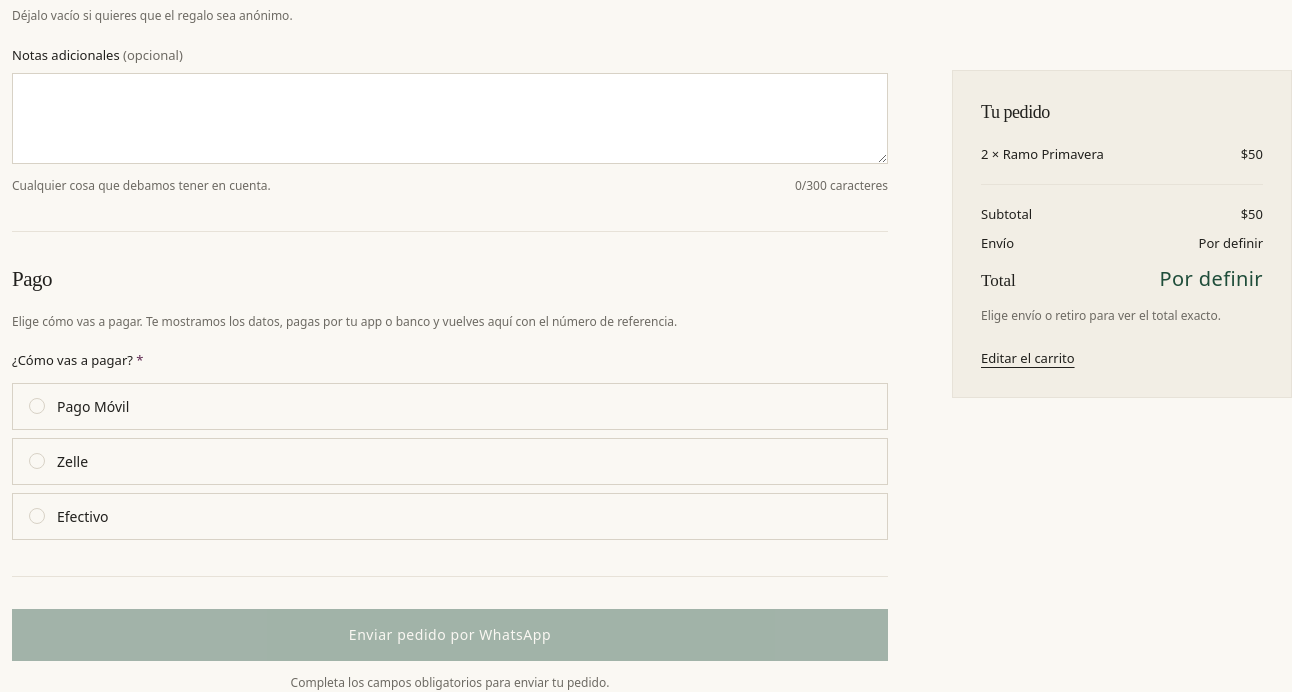
Test: the checkout island › shows the account details of the chosen rail and no other
(page scrolled)
Expected: the text "0412-0000001" is not shown
Expected: the text "Azahar Flowers LLC" is not shown
Click the radio button named "Pago Móvil" next to "Pago Móvil" at (37, 406), box [29,398,45,414]
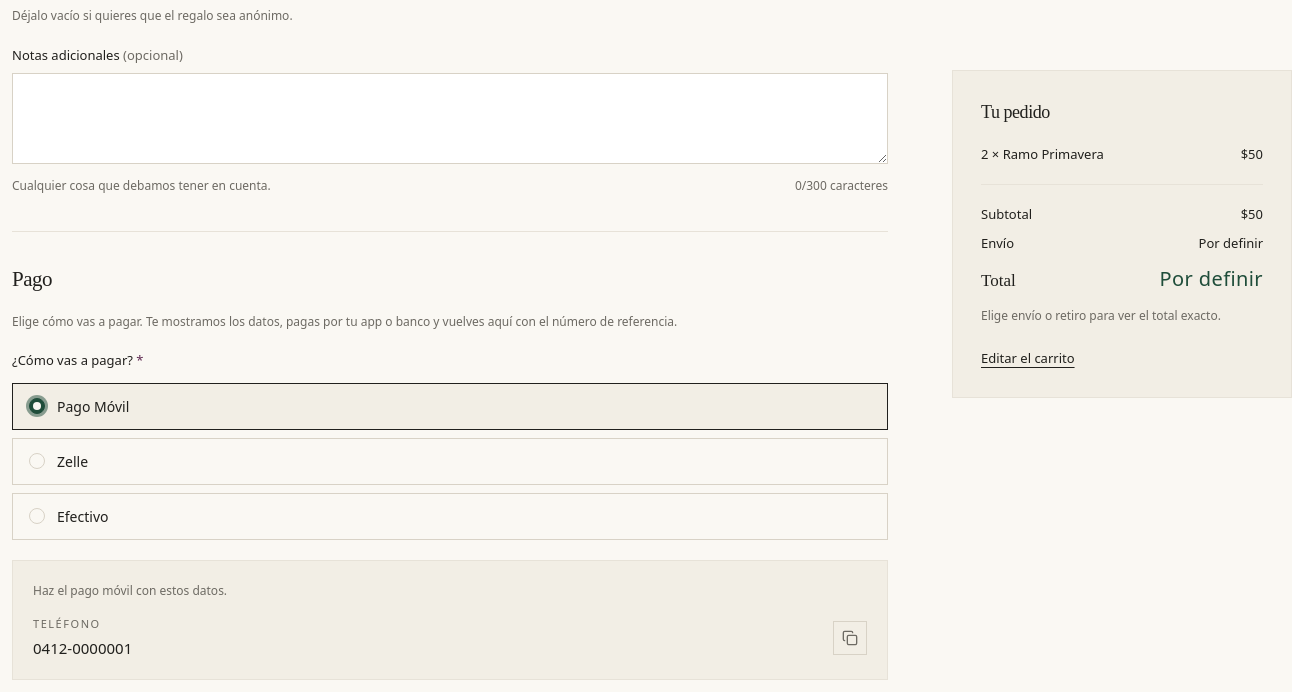
Expected: the text "Azahar Flowers LLC" is not shown
Expected: the text "0412-0000001" is shown, [33,636,132,659]
Click the radio button named "Zelle" next to "Zelle" at (37, 461), box [29,453,45,469]
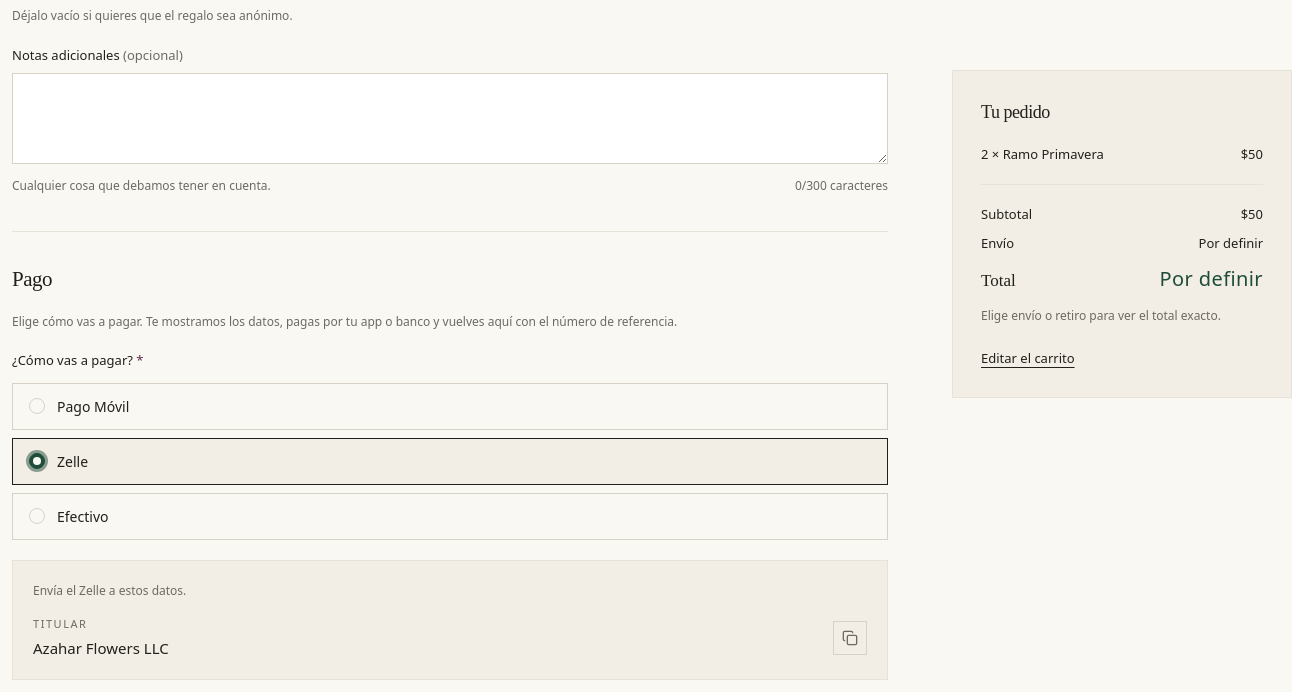
Expected: the text "Azahar Flowers LLC" is shown, [33,636,169,659]
Expected: the text "0412-0000001" is gone
